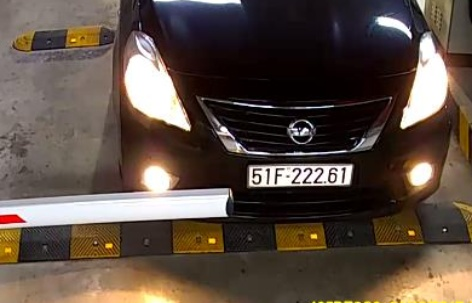plate: (240, 159, 358, 192)
